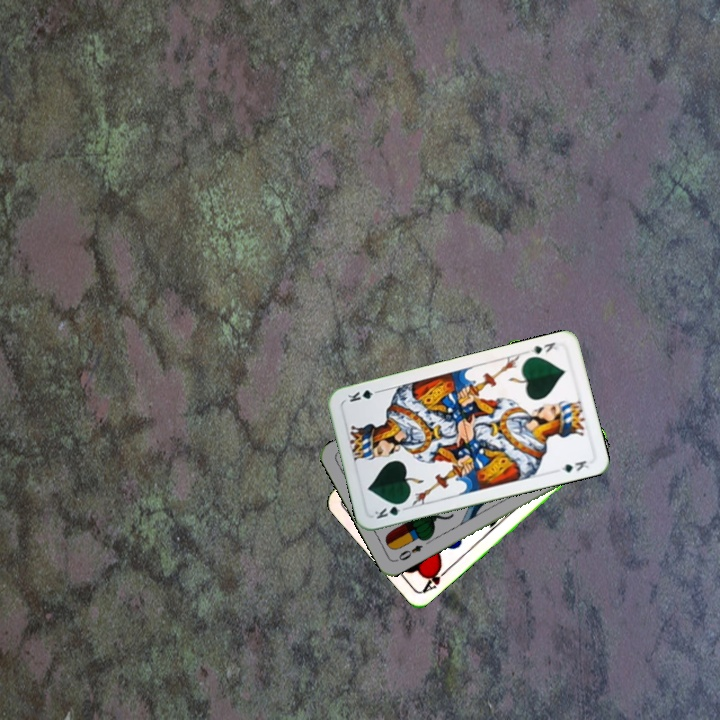EO: (392, 541, 425, 564)
GK: (370, 498, 408, 521), (527, 338, 560, 357)
HA: (418, 561, 452, 595)
